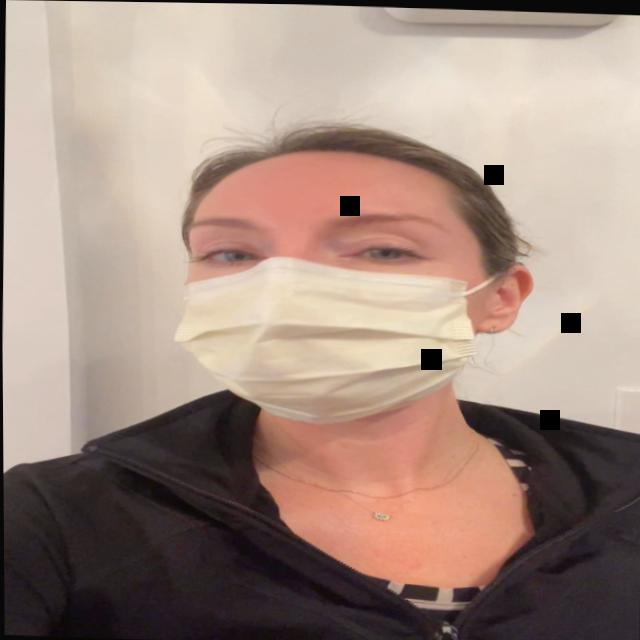Mask: (153, 124, 551, 439)
